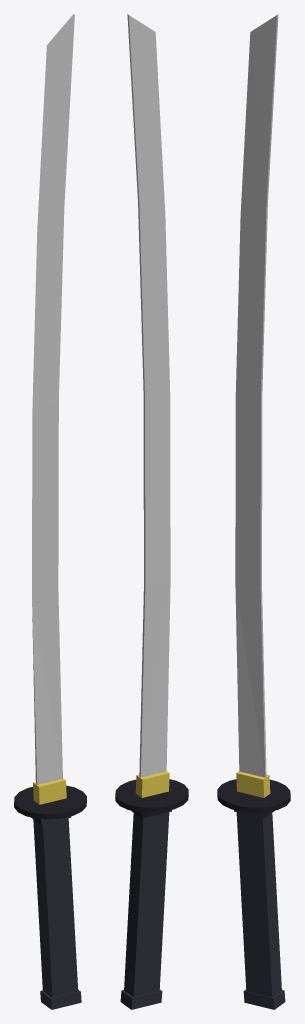
Rendered from Sword.fbx.
3 renders of one model, left to right at view 1: azimuth 30°, elevation 25°; view 2: azimuth 210°, elevation 25°; view 3: azimuth 330°, elevation 25°, orthographic.
Visible parts, largest first — view 1: Box001; view 2: Box001; view 3: Box001.
Boxes of the visible parts, left/top/right/bottom form: Box001: left=14, top=14, right=86, bottom=1009; Box001: left=115, top=14, right=188, bottom=1009; Box001: left=217, top=14, right=290, bottom=1009.
Bounding box in the file's own units: 9.88 × 143 × 9.11.
1 material, 1 textured.
